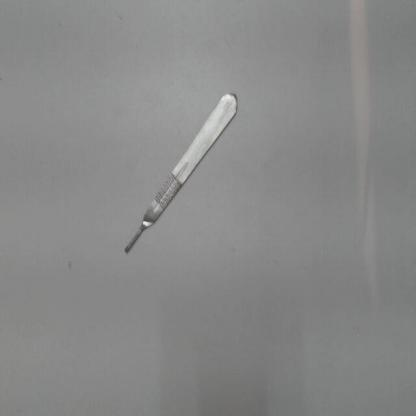No.3 BP Handle: (119, 86, 248, 262)
